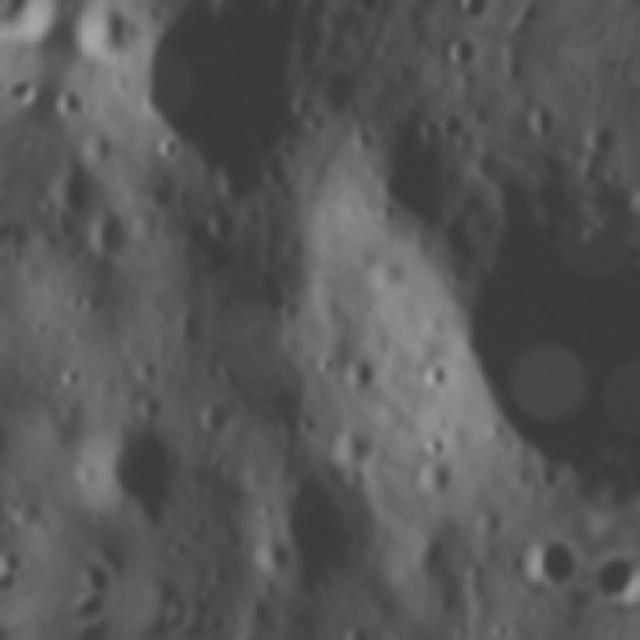crater: (418, 174, 640, 503), (97, 0, 356, 232), (78, 404, 207, 538), (54, 0, 148, 82), (512, 524, 590, 604), (42, 144, 109, 222), (80, 199, 148, 275), (326, 412, 386, 476), (41, 73, 104, 132), (515, 90, 570, 155), (197, 198, 249, 260), (142, 121, 195, 177), (188, 388, 241, 442), (336, 344, 382, 401), (426, 102, 474, 156), (247, 528, 295, 578), (440, 23, 489, 71), (75, 556, 122, 598), (0, 539, 29, 575), (199, 602, 238, 628), (200, 0, 256, 18), (500, 635, 554, 640)
